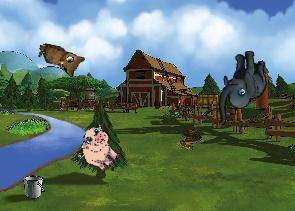elephant: (207, 48, 273, 125)
owl: (34, 42, 85, 79)
pig: (71, 121, 127, 177)
